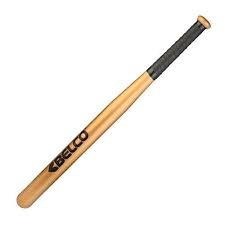baseball bat: (15, 15, 213, 209)
